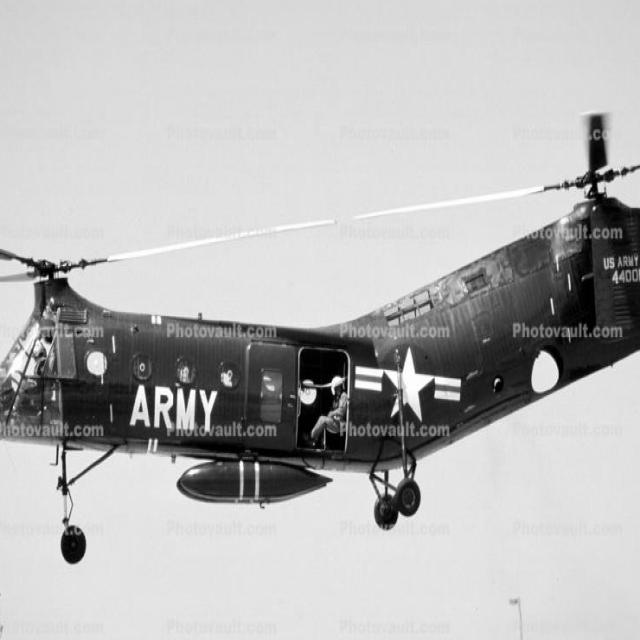helicopter: (1, 116, 640, 537)
